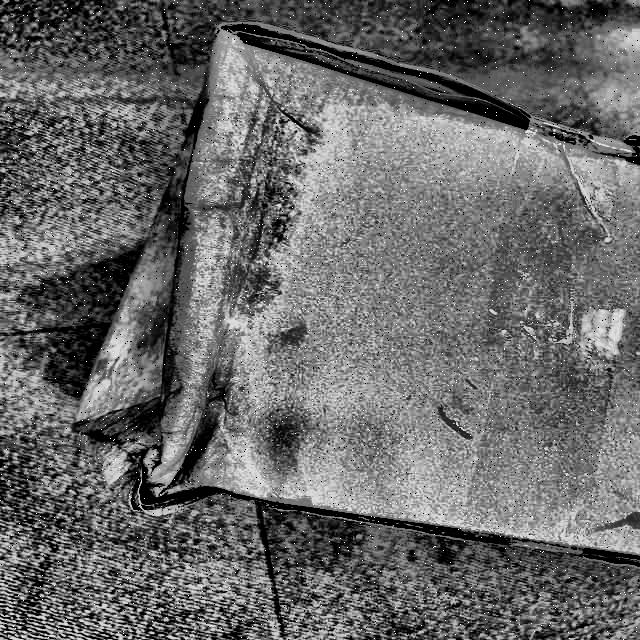box: (39, 15, 639, 577)
wet: (60, 51, 308, 528)
